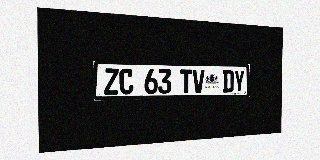3: (158, 69, 171, 94)
6: (144, 69, 158, 94)
C: (119, 68, 133, 94)
D: (223, 70, 234, 93)
T: (180, 69, 192, 93)
V: (193, 69, 204, 93)
Y: (234, 70, 244, 92)
Z: (104, 68, 119, 95)
